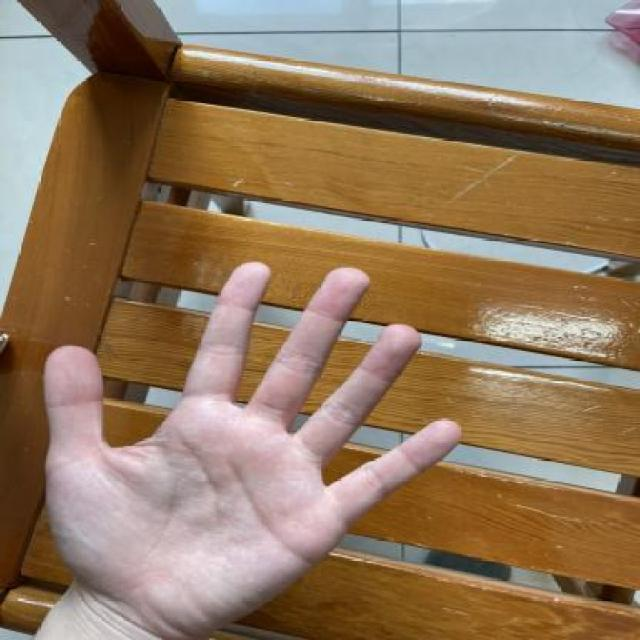hand: (28, 246, 490, 640)
